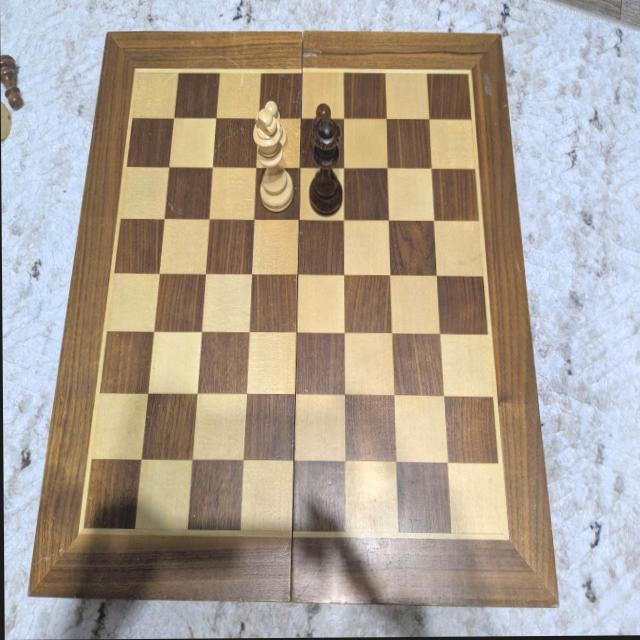black_pawn: (309, 104, 337, 157)
black_queen: (308, 118, 343, 216)
white_king: (252, 109, 294, 214)
white_pawn: (262, 101, 288, 155)
